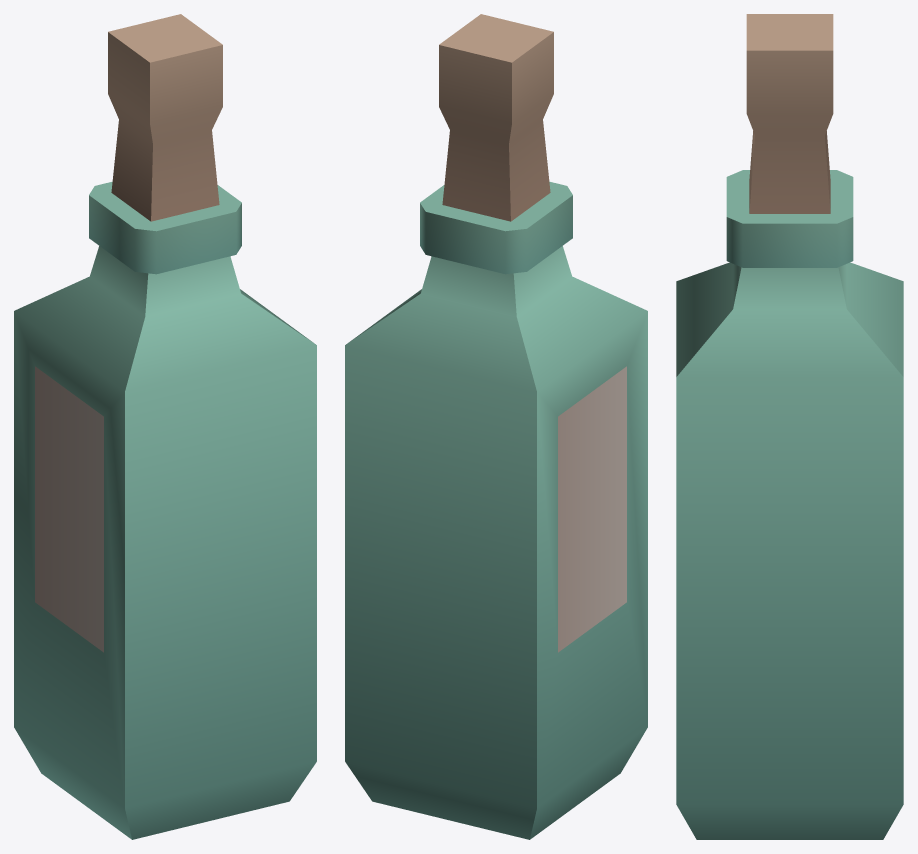
File: bottle-oil.glb
The picture shows the model from 3 angles, left to right: view 1: azimuth 30°, elevation 25°; view 2: azimuth 150°, elevation 25°; view 3: azimuth 270°, elevation 25°; orthographic projection. The views are drawn at different scales.
Parts seen in each view (by area): view 1: bottle-oil; view 2: bottle-oil; view 3: bottle-oil.
Part boxes in pixels (x1,y1,x2,y2): bottle-oil: [14, 14, 316, 839]; bottle-oil: [345, 14, 647, 839]; bottle-oil: [676, 14, 903, 839].
Size of the model in its own units: 0.14 by 0.5218 by 0.14.
